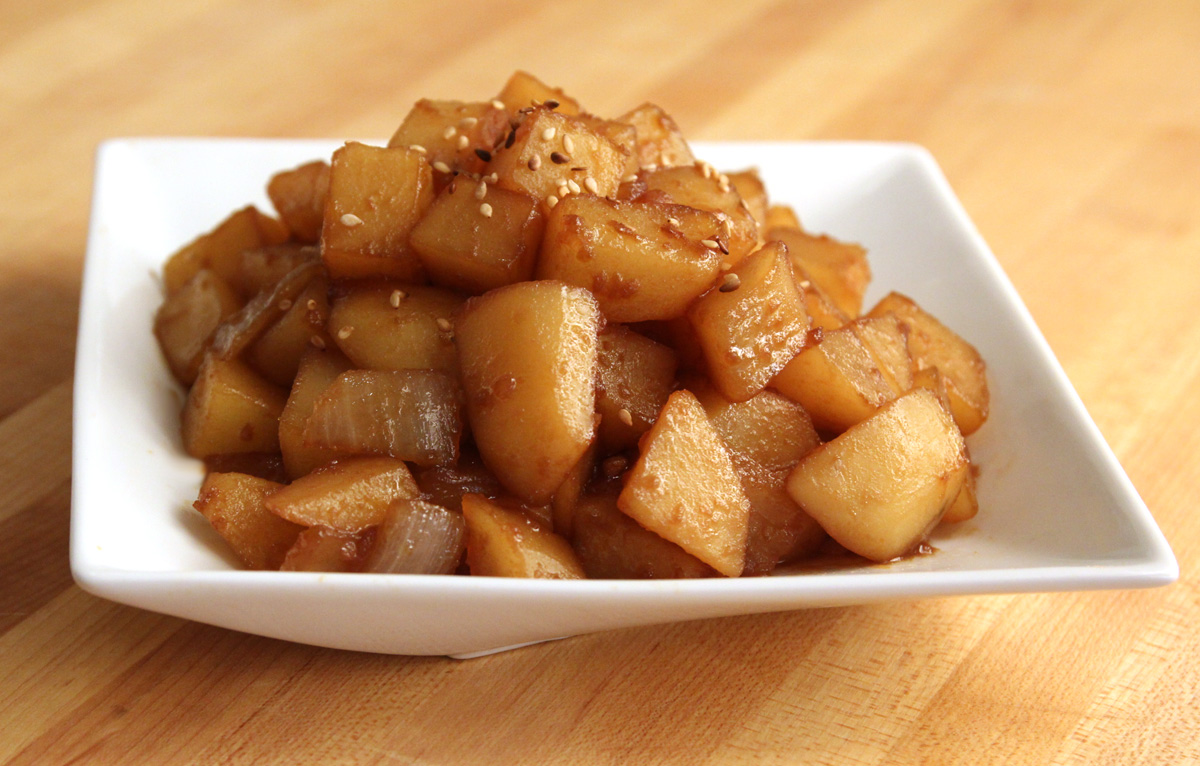boiled potatoes: (281, 167, 890, 522)
